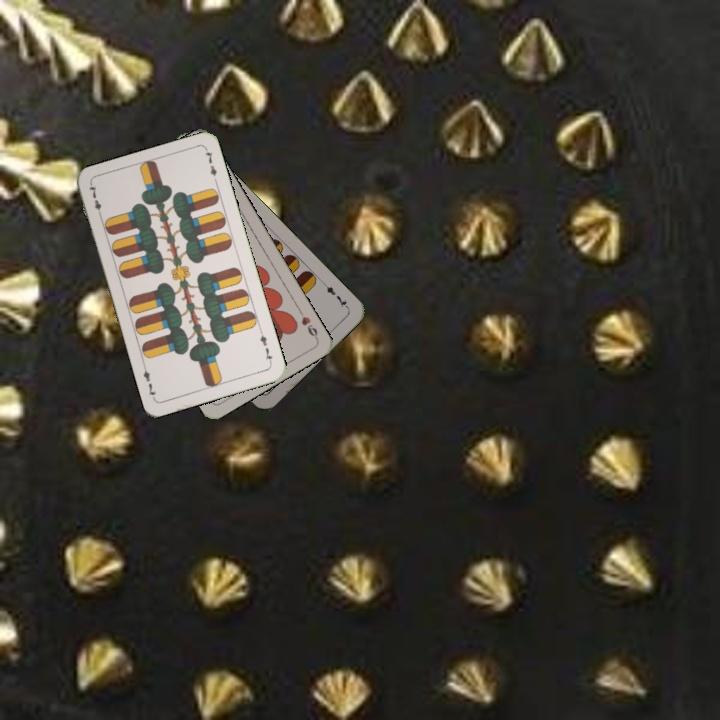E7: (320, 279, 351, 311), (256, 327, 275, 366), (86, 181, 105, 220)
H9: (294, 305, 320, 342)
